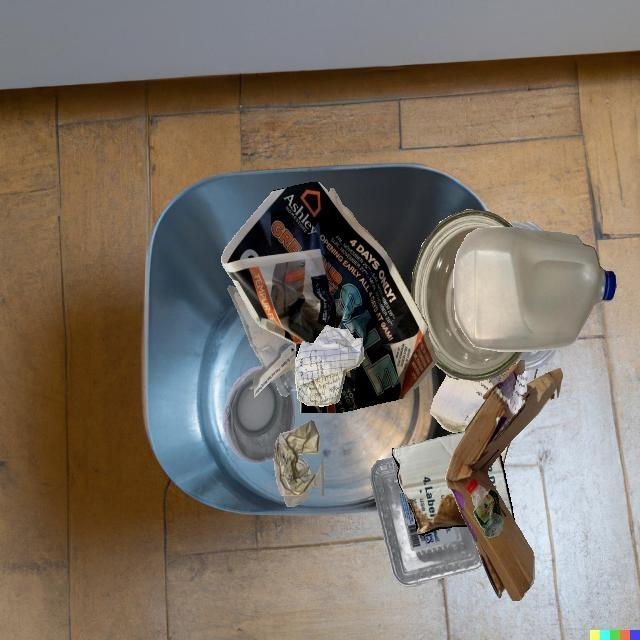cardboard: (445, 360, 563, 601), (392, 431, 468, 535)
glass: (411, 209, 523, 381), (294, 461, 324, 507), (295, 457, 311, 496), (441, 369, 461, 380)
paper: (221, 182, 437, 413), (228, 285, 295, 398), (295, 325, 364, 406), (273, 420, 320, 496), (430, 375, 476, 434), (476, 391, 509, 466)
plastic: (454, 227, 616, 351), (370, 457, 483, 587), (223, 366, 296, 463), (466, 478, 504, 538), (507, 349, 557, 371), (275, 370, 296, 396), (508, 222, 544, 231)
